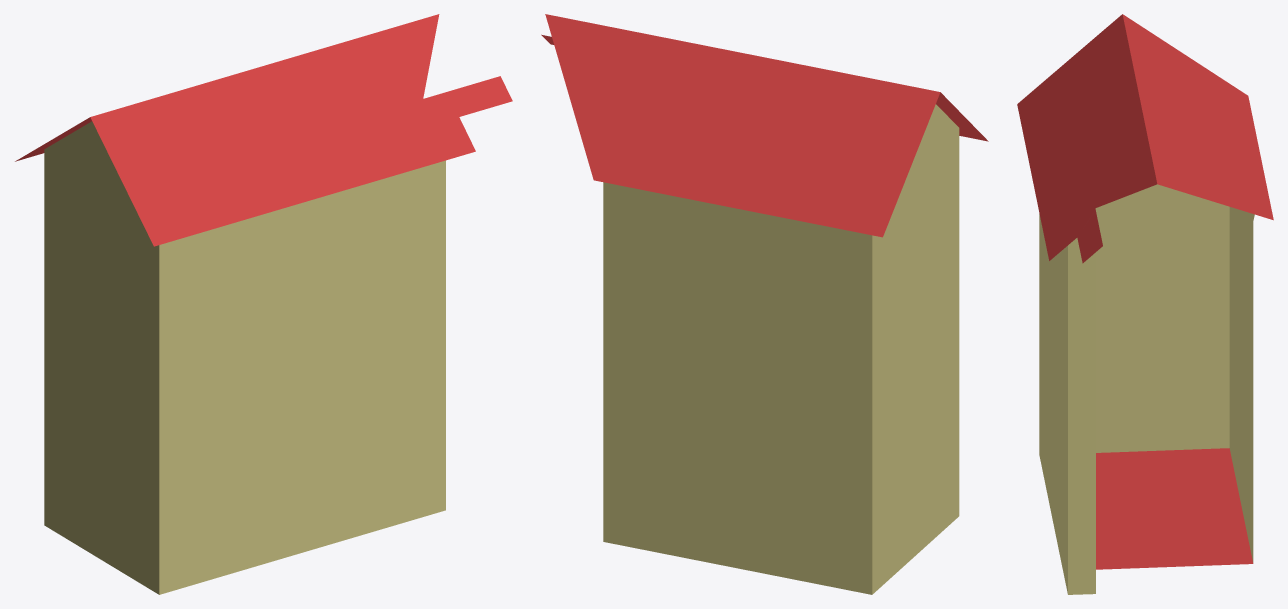
The picture shows the model from 3 angles, left to right: view 1: azimuth 30°, elevation 25°; view 2: azimuth 150°, elevation 25°; view 3: azimuth 270°, elevation 25°; orthographic projection. The views are drawn at different scales.
Bounding box in the file's own units: 10.99 × 6.25 × 11.54.
